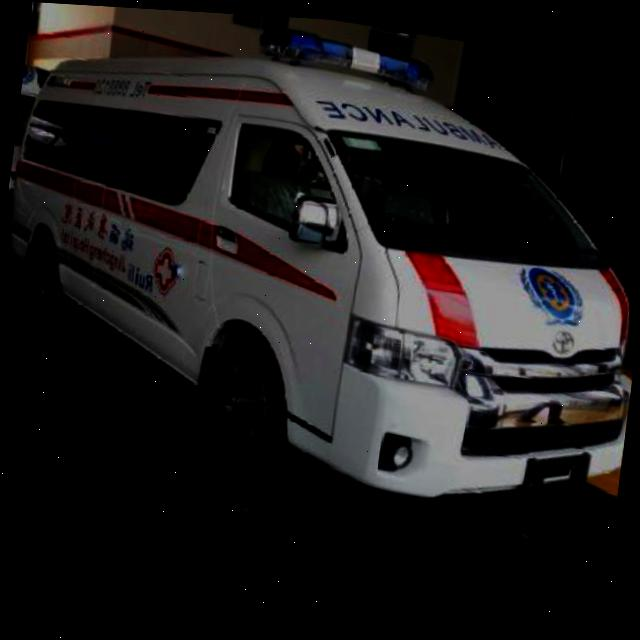emergency: (0, 0, 640, 529)
